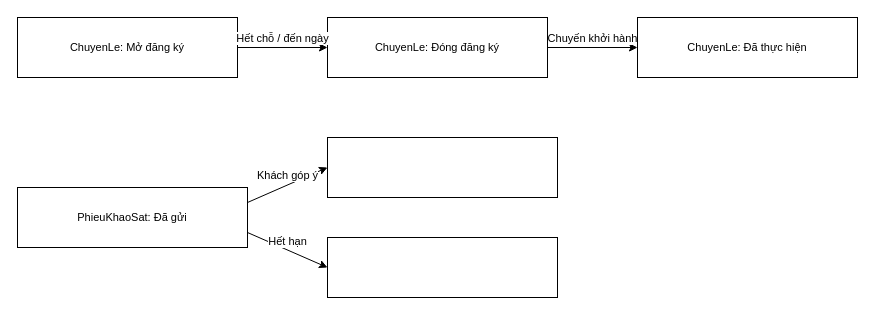
This 875x315 diagram has some shape labels left out. The shapes that lost their labels are listed below. From the top down, each one's centre as x and y in pixels, then its label:
At pixel 442 167: "PhieuKhaoSat: Đã phản hồi".
At pixel 442 267: "PhieuKhaoSat: Quá hạn (30 ngày)".
